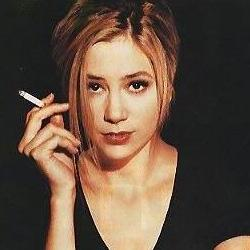smoking: (15, 88, 84, 187)
